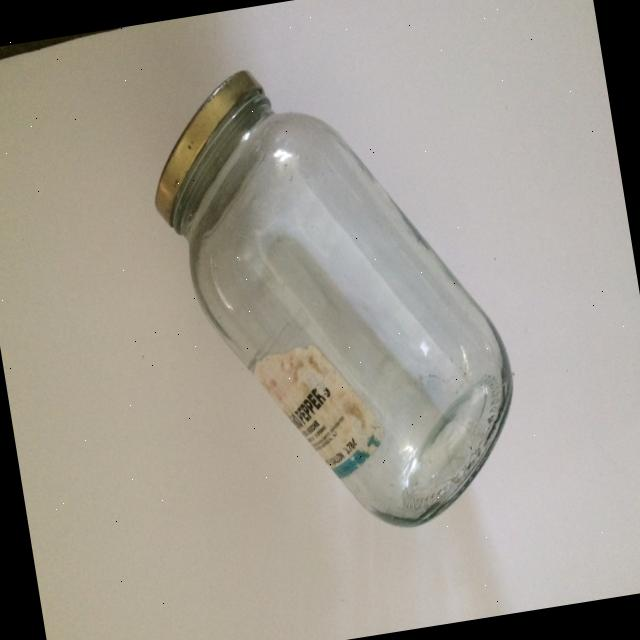glass: (136, 34, 534, 560)
